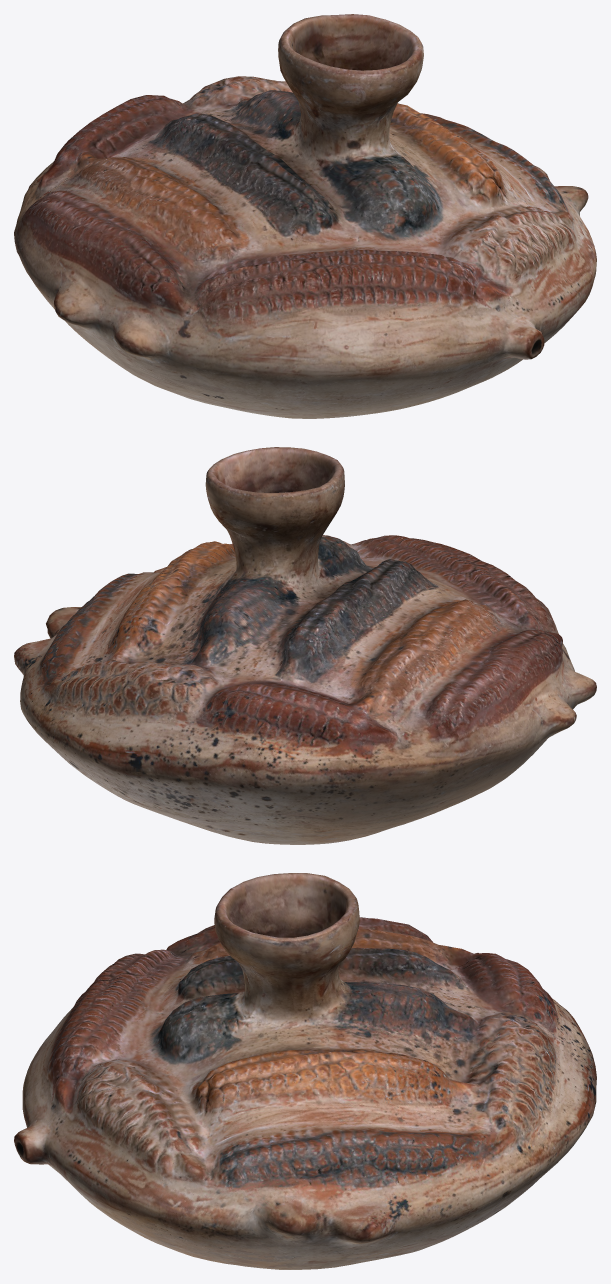
The picture shows the model from 3 angles, top to bottom: view 1: azimuth 30°, elevation 25°; view 2: azimuth 150°, elevation 25°; view 3: azimuth 270°, elevation 25°; orthographic projection. The views are drawn at different scales.
Bounding box in the file's own units: 1.74 × 1.02 × 1.64.
Materials: 1 (1 with a texture image).
